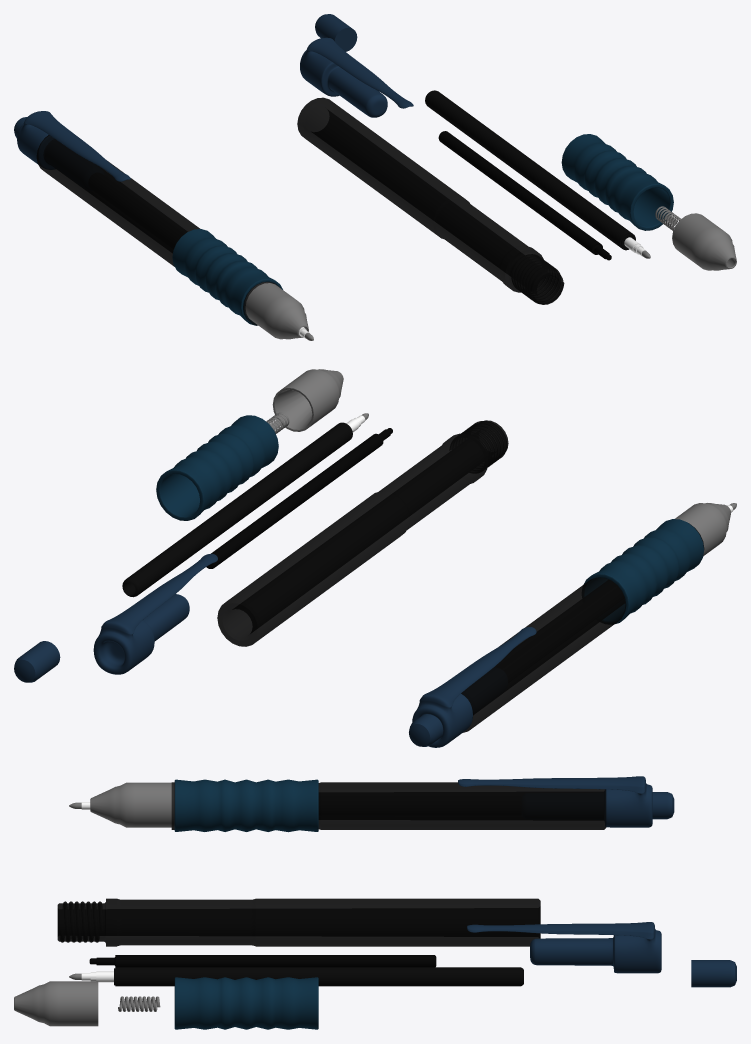
File: asset.gltf
3 renders of one model, top to bottom at view 1: azimuth 30°, elevation 25°; view 2: azimuth 150°, elevation 25°; view 3: azimuth 270°, elevation 25°, orthographic. The views are drawn at different scales.
Parts seen in each view (by area): view 1: mainPenPiece_01 (×2), grippy_01 (×2), pCube1 (×2), cap_toInkpart_01 (×2), Ink_piece, ink_01, screwOn_piece_01, pCylinder3; view 2: mainPenPiece_01 (×2), grippy_01 (×2), pCube1 (×2), Ink_piece, cap_toInkpart_01 (×2), ink_01, pCylinder3 (×2), screwOn_piece_01; view 3: mainPenPiece_01 (×2), grippy_01 (×2), pCube1 (×2), Ink_piece, cap_toInkpart_01 (×2), ink_01, pCylinder3 (×2), screwOn_piece_01, springtype2_01.
Boxes of the visible parts, <box> form: mainPenPiece_01 (×2): <box>36,97,563,325</box>; grippy_01 (×2): <box>172,134,673,325</box>; pCube1 (×2): <box>17,37,413,181</box>; cap_toInkpart_01 (×2): <box>244,213,736,339</box>; Ink_piece: <box>425,90,650,258</box>; ink_01: <box>438,131,611,260</box>; screwOn_piece_01: <box>511,254,564,304</box>; pCylinder3: <box>315,14,357,51</box>; mainPenPiece_01 (×2): <box>217,420,704,732</box>; grippy_01 (×2): <box>156,415,704,623</box>; pCube1 (×2): <box>93,553,536,747</box>; Ink_piece: <box>122,413,368,597</box>; cap_toInkpart_01 (×2): <box>272,369,730,555</box>; ink_01: <box>206,428,392,568</box>; pCylinder3 (×2): <box>14,641,443,746</box>; screwOn_piece_01: <box>461,421,507,472</box>; mainPenPiece_01 (×2): <box>57,782,606,946</box>; grippy_01 (×2): <box>174,779,318,1029</box>; pCube1 (×2): <box>458,776,661,973</box>; Ink_piece: <box>69,967,523,986</box>; cap_toInkpart_01 (×2): <box>14,782,174,1026</box>; ink_01: <box>89,955,436,967</box>; pCylinder3 (×2): <box>652,792,736,987</box>; screwOn_piece_01: <box>59,901,103,942</box>; springtype2_01: <box>118,996,160,1011</box>.
Size of the model in its own units: 10.78 by 1.18 by 14.97.
